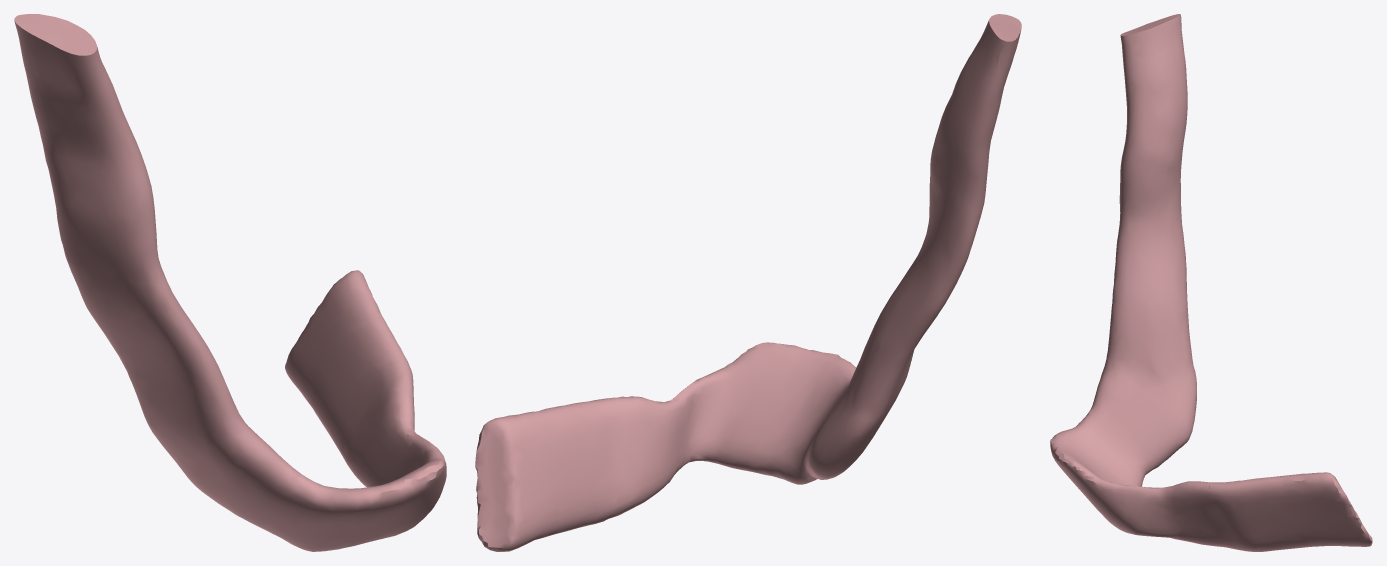
File: fma75193-r_mm3440.glb
3 views of the same model, side by side, from view 1: azimuth 30°, elevation 25°; view 2: azimuth 150°, elevation 25°; view 3: azimuth 270°, elevation 25° (orthographic). The views are drawn at different scales.
Parts seen in each view (by area): view 1: FMA75193-R_MM3440; view 2: FMA75193-R_MM3440; view 3: FMA75193-R_MM3440.
Boxes of the visible parts, x1,y1,x2,y2 form: FMA75193-R_MM3440: (14, 14, 446, 551); FMA75193-R_MM3440: (475, 14, 1021, 551); FMA75193-R_MM3440: (1050, 14, 1372, 551).
Bounding box in the file's own units: 0.0137 × 0.0164 × 0.0119.
